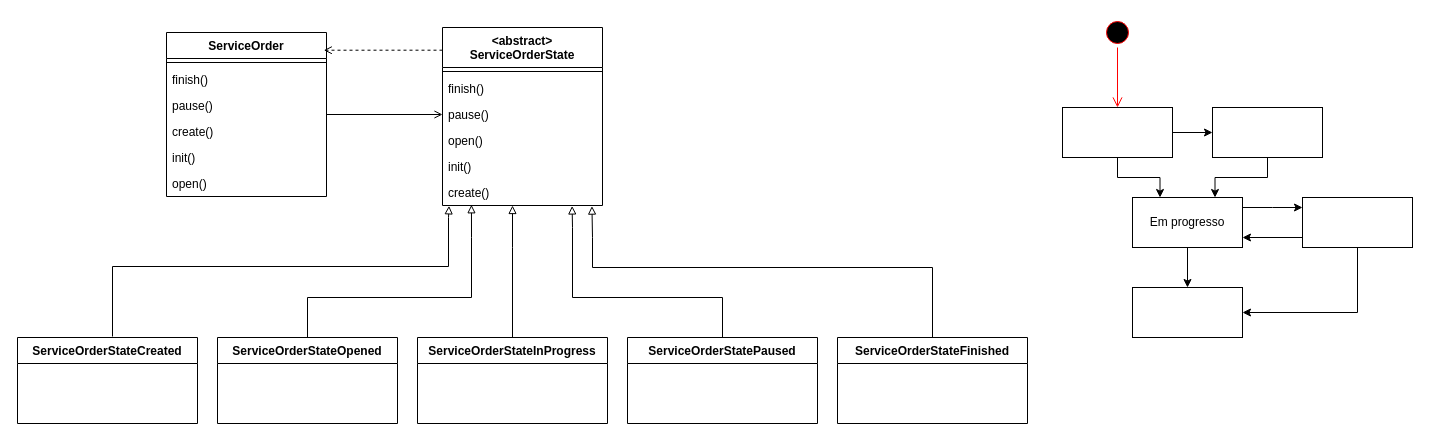
The diagram is 1430 pixels wide and 441 high, and some of its shapes have lost their labels. The shapes that lost their labels are listed below. From the top down, each one's centre as x and y in pixels, then its label:
the point at 1117,132: Criado
the point at 1267,132: Aberto
the point at 1357,222: Pausado
the point at 1187,312: Finalizado
